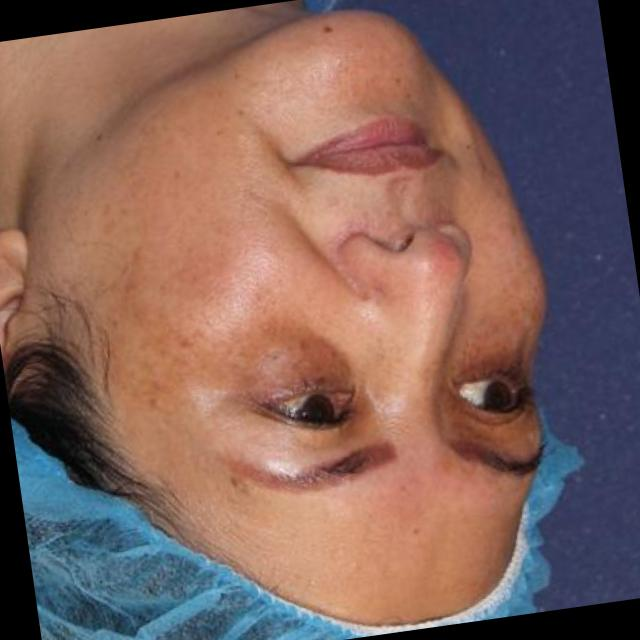melasma: (19, 210, 342, 445)
